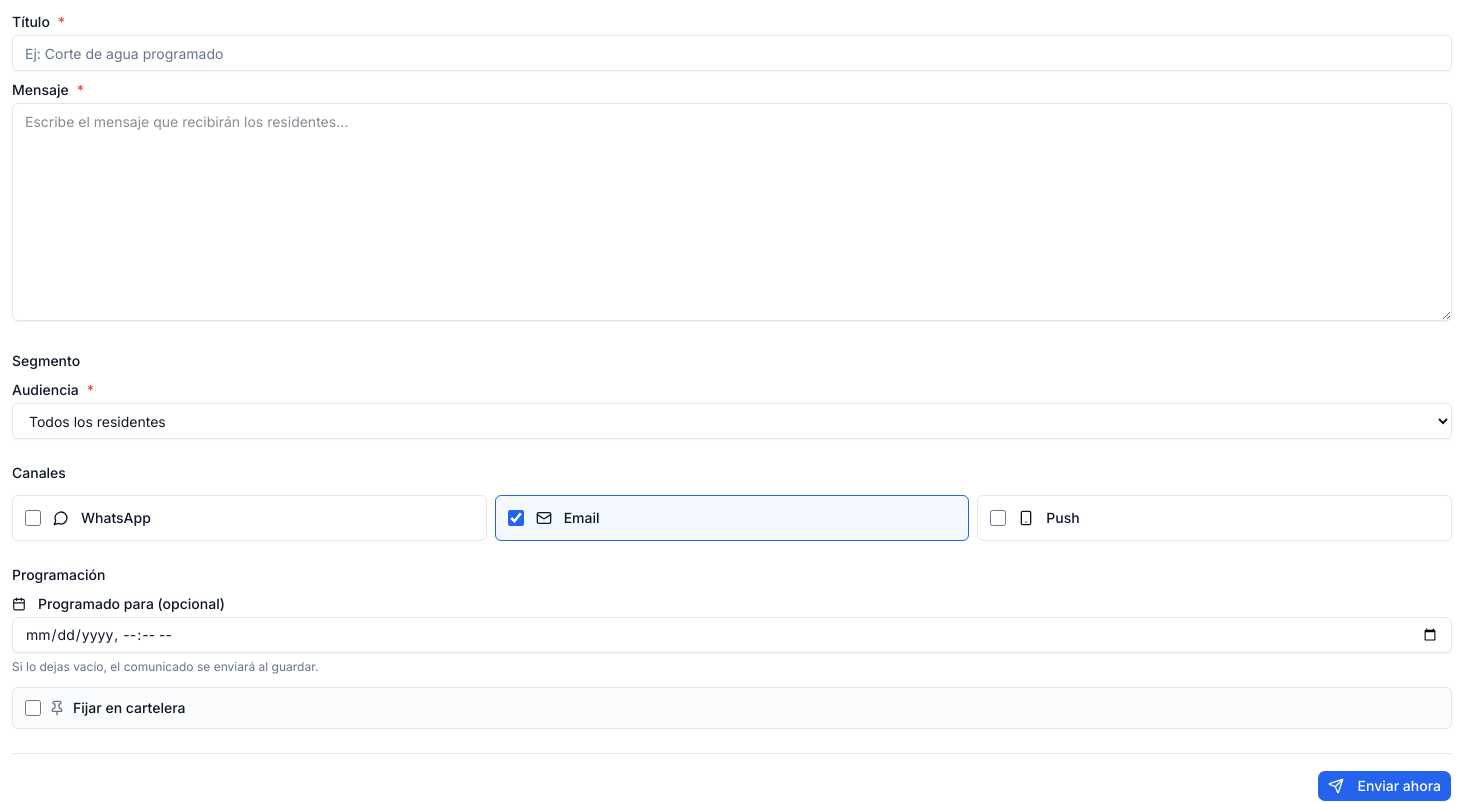
Test case: AnnouncementComposer › valida campos obligatorios al enviar vacío
(page scrolled)
Click the button "Enviar ahora".
click(1384, 786)  # box [1316, 770, 1452, 801]
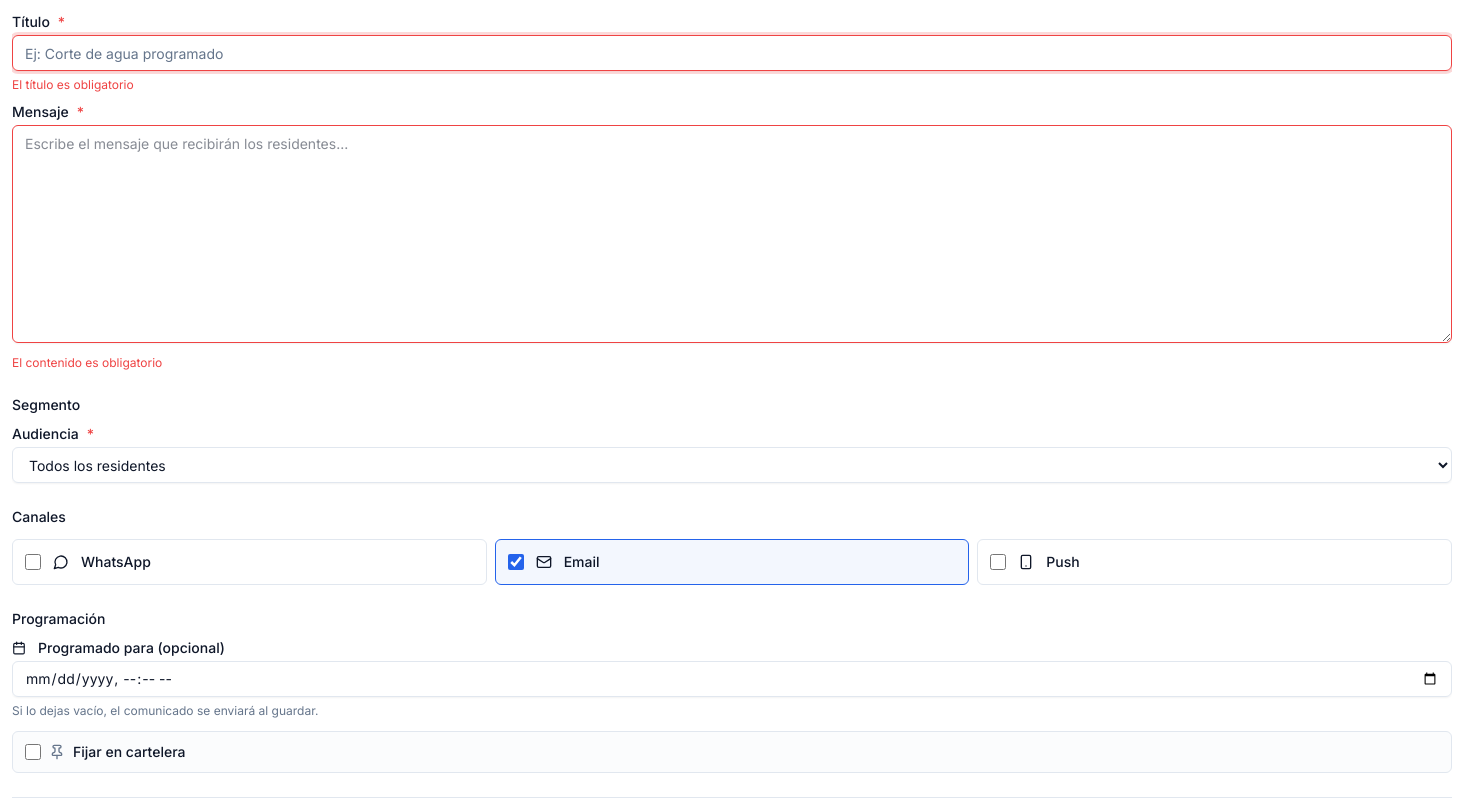
Result: the text "El título es obligatorio" is shown at [12, 77, 134, 92]
